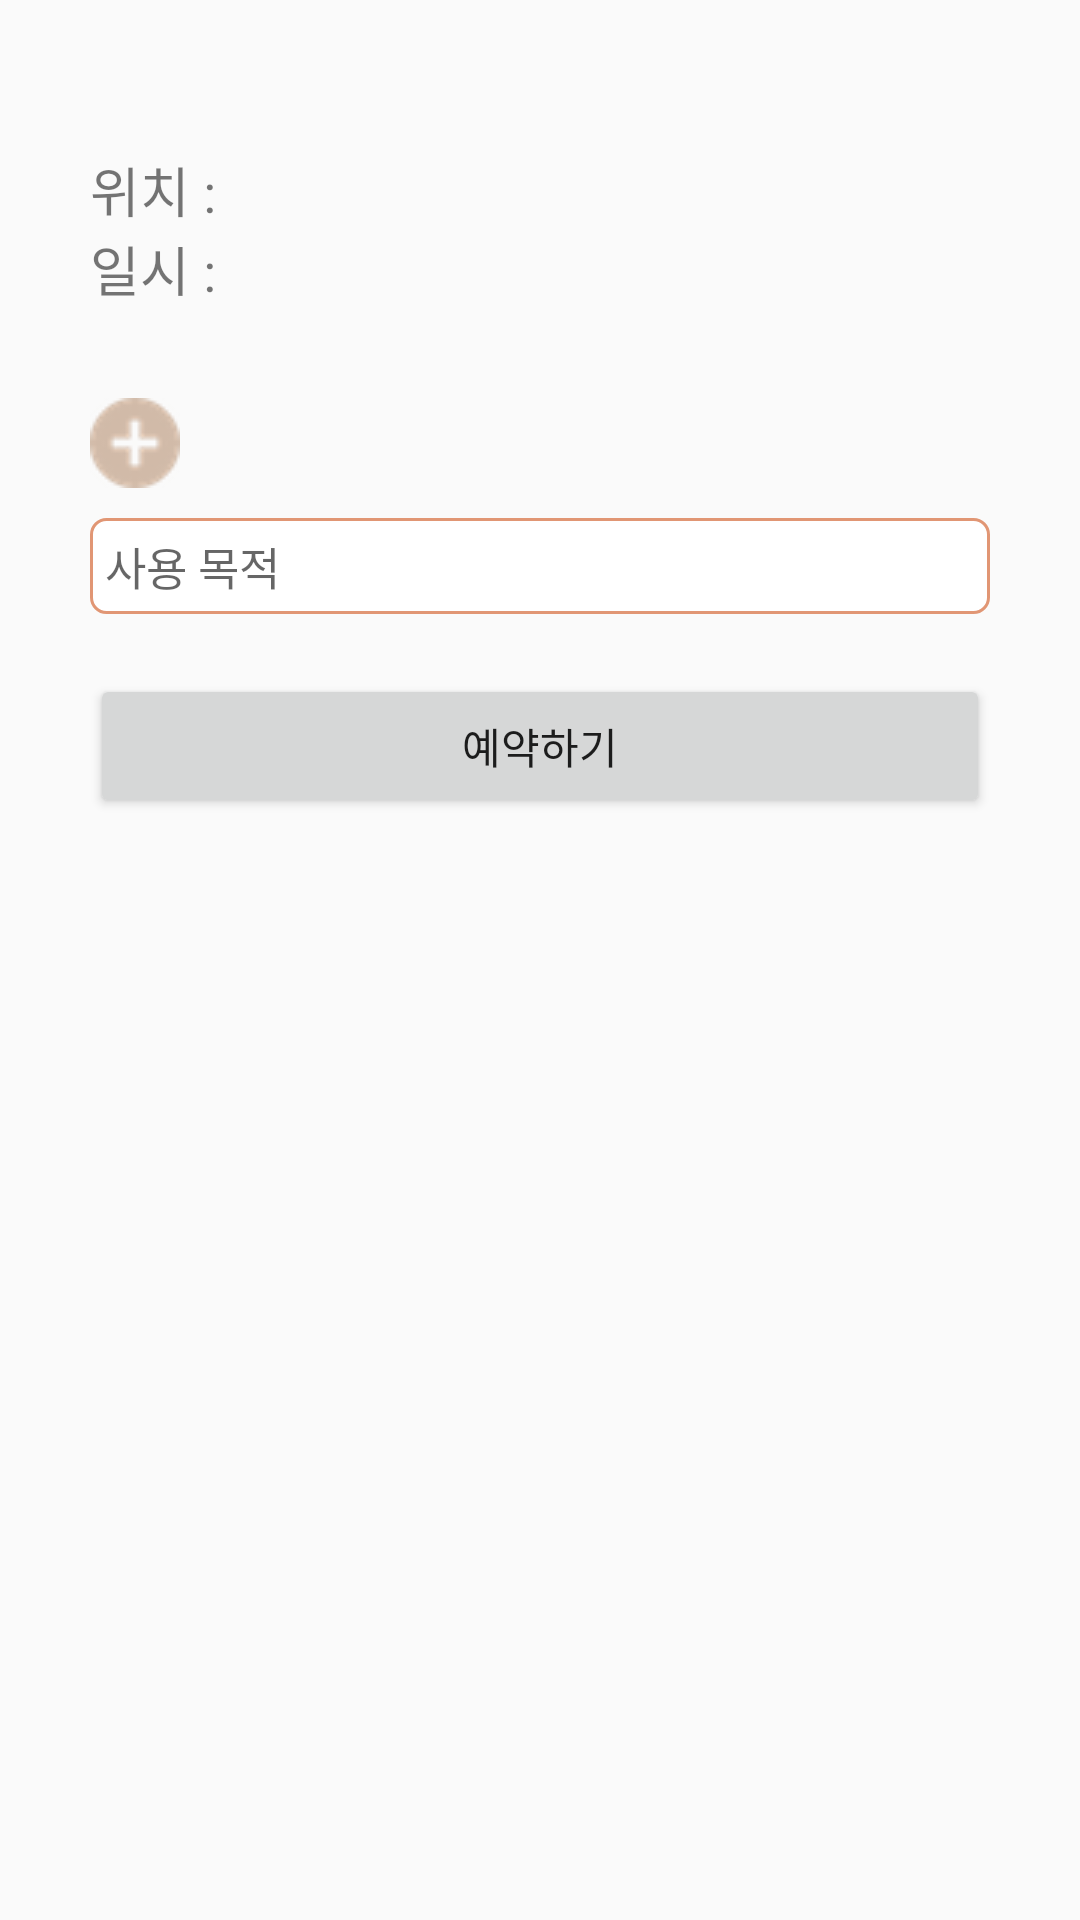

Where icons sit on this 1080x1920 app screen, as (x1, y1, x2, y2):
add: (90, 398, 180, 488)
